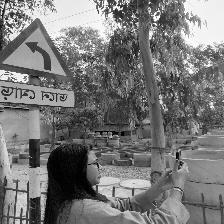Right-turn: (0, 18, 76, 110)
